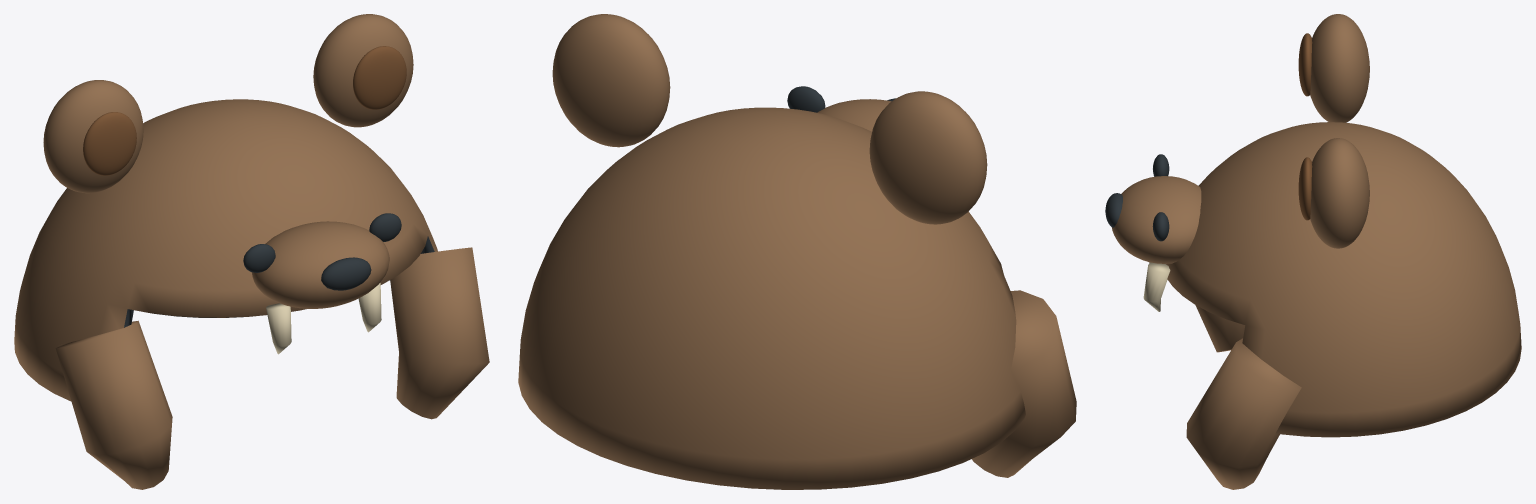
File: bear-hood.glb
The picture shows the model from 3 angles, left to right: view 1: azimuth 30°, elevation 25°; view 2: azimuth 150°, elevation 25°; view 3: azimuth 270°, elevation 25°; orthographic projection. The views are drawn at different scales.
Parts seen in each view (by area): view 1: Pelt hood, Fur cheek flap, Fur cheek flap.001, Muzzle, Rounded bear ear.001, Rounded bear ear, Ear inner leather, Ear inner leather.001, Nose, Pelt fang, Pelt fang.001, Pelt eye (+1 smaller); view 2: Pelt hood, Rounded bear ear, Rounded bear ear.001, Fur cheek flap, Muzzle, Pelt eye.001; view 3: Pelt hood, Fur cheek flap.001, Muzzle, Rounded bear ear.001, Rounded bear ear, Fur cheek flap, Pelt fang.001, Ear inner leather.001, Ear inner leather, Nose.
Part boxes in pixels (x1=…): Pelt hood: x1=14, y1=99, x2=437, y2=401; Fur cheek flap: x1=55, y1=320, x2=172, y2=489; Fur cheek flap.001: x1=390, y1=247, x2=489, y2=419; Muzzle: x1=251, y1=221, x2=389, y2=308; Rounded bear ear.001: x1=313, y1=14, x2=413, y2=127; Rounded bear ear: x1=43, y1=80, x2=143, y2=193; Ear inner leather: x1=83, y1=112, x2=136, y2=175; Ear inner leather.001: x1=353, y1=46, x2=406, y2=109; Nose: x1=321, y1=257, x2=371, y2=290; Pelt fang: x1=266, y1=303, x2=291, y2=354; Pelt fang.001: x1=358, y1=283, x2=381, y2=332; Pelt eye: x1=243, y1=244, x2=275, y2=272; Pelt hood: x1=518, y1=107, x2=1025, y2=489; Rounded bear ear: x1=869, y1=91, x2=987, y2=224; Rounded bear ear.001: x1=552, y1=14, x2=670, y2=147; Fur cheek flap: x1=972, y1=290, x2=1076, y2=477; Muzzle: x1=817, y1=99, x2=891, y2=131; Pelt eye.001: x1=787, y1=86, x2=825, y2=112; Pelt hood: x1=1166, y1=122, x2=1521, y2=437; Fur cheek flap.001: x1=1186, y1=338, x2=1301, y2=489; Muzzle: x1=1112, y1=176, x2=1201, y2=263; Rounded bear ear.001: x1=1310, y1=138, x2=1369, y2=248; Rounded bear ear: x1=1310, y1=14, x2=1369, y2=122; Fur cheek flap: x1=1195, y1=305, x2=1245, y2=352; Pelt fang.001: x1=1143, y1=262, x2=1170, y2=311; Ear inner leather.001: x1=1298, y1=157, x2=1312, y2=220; Ear inner leather: x1=1298, y1=33, x2=1312, y2=96; Nose: x1=1105, y1=193, x2=1122, y2=227.
Size of the model in its own units: 0.906 by 0.7662 by 0.851.
